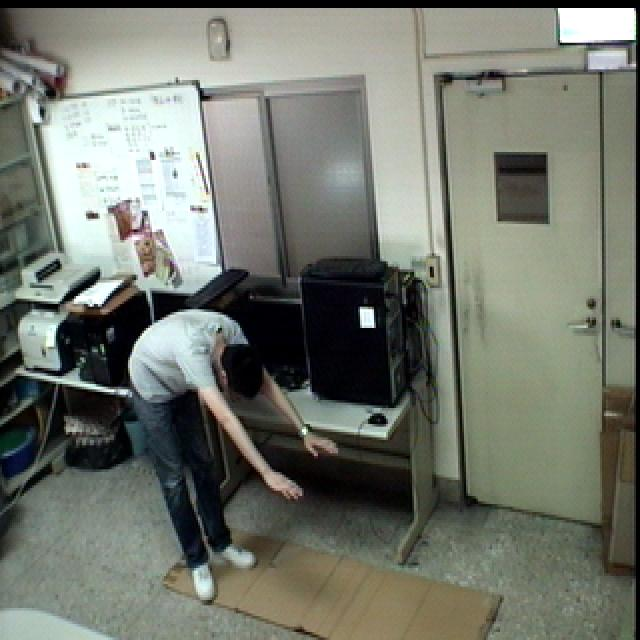bend: (126, 308, 350, 607)
